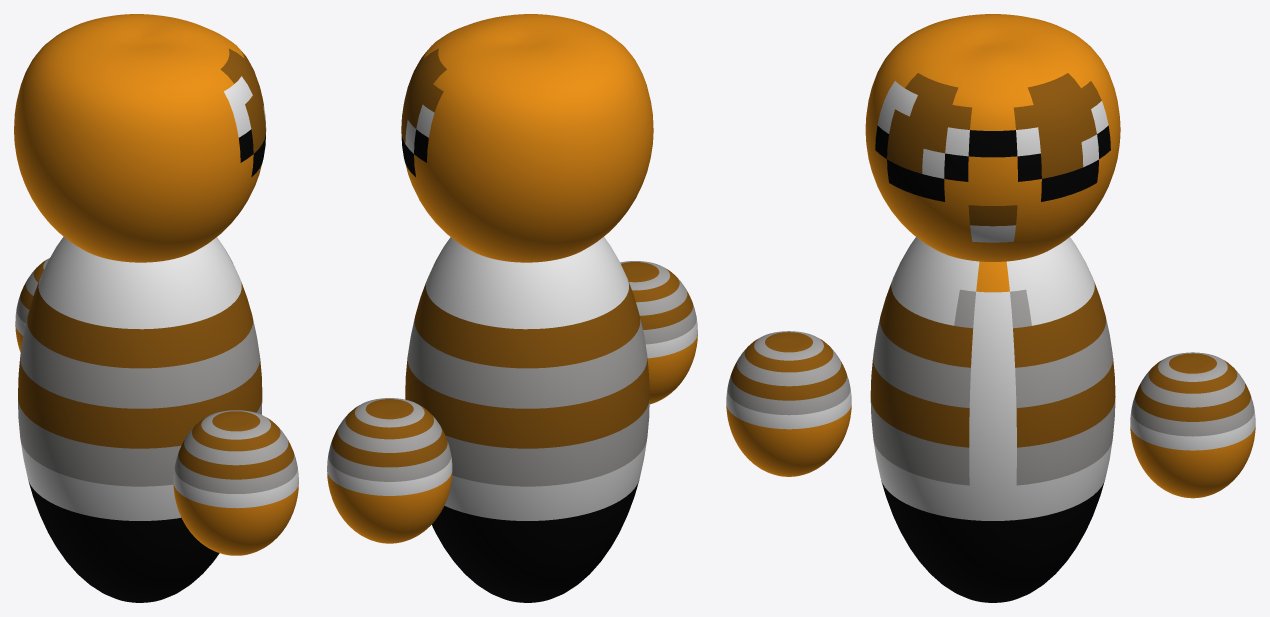
The model's file is strategicorange.fbx.
3 views of the same model, side by side, from view 1: azimuth 30°, elevation 25°; view 2: azimuth 150°, elevation 25°; view 3: azimuth 270°, elevation 25° (orthographic).
Visible parts, largest first — view 1: Body, Head, Arm 1, Arm 2; view 2: Body, Head, Arm 2, Arm 1; view 3: Body, Head, Arm 2, Arm 1.
Boxes of the visible parts, box(x1,y1,x2,y2) form: Body: box(18, 236, 262, 602); Head: box(14, 14, 266, 262); Arm 1: box(173, 410, 298, 555); Arm 2: box(15, 258, 49, 352); Body: box(405, 237, 649, 602); Head: box(401, 14, 653, 262); Arm 2: box(327, 398, 452, 543); Arm 1: box(620, 261, 697, 404); Body: box(870, 237, 1115, 602); Head: box(865, 14, 1120, 261); Arm 2: box(1130, 352, 1255, 498); Arm 1: box(726, 331, 851, 476).
Size of the model in its own units: 203 by 497 by 427.
